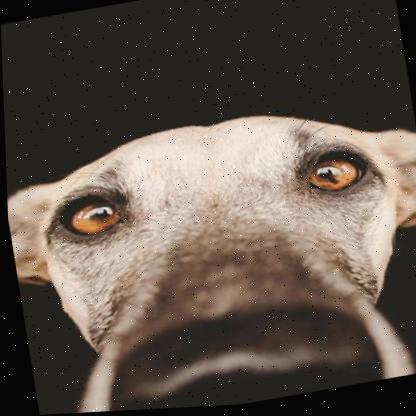dog: (3, 64, 416, 416)
